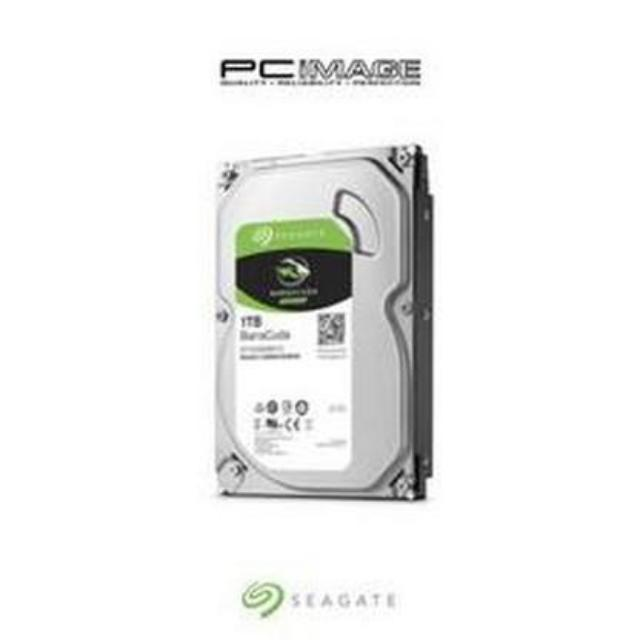DISK: (207, 144, 438, 502)
